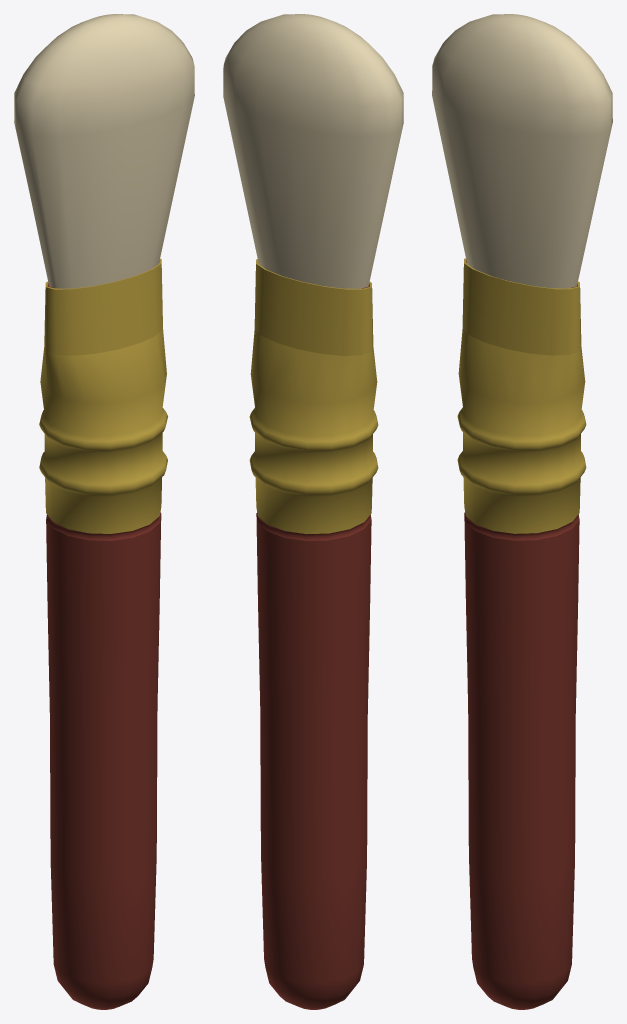
The model's file is brush_2.fbx.
3 views of the same model, side by side, from view 1: azimuth 30°, elevation 25°; view 2: azimuth 150°, elevation 25°; view 3: azimuth 330°, elevation 25° (orthographic).
Visible parts, largest first — view 1: brush 2; view 2: brush 2; view 3: brush 2.
Part boxes in pixels (<box>): brush 2: <box>14,14,194,1009</box>; brush 2: <box>223,14,403,1009</box>; brush 2: <box>432,14,612,1009</box>.
Size of the model in its own units: 0.5917 by 3.17 by 0.3686.
